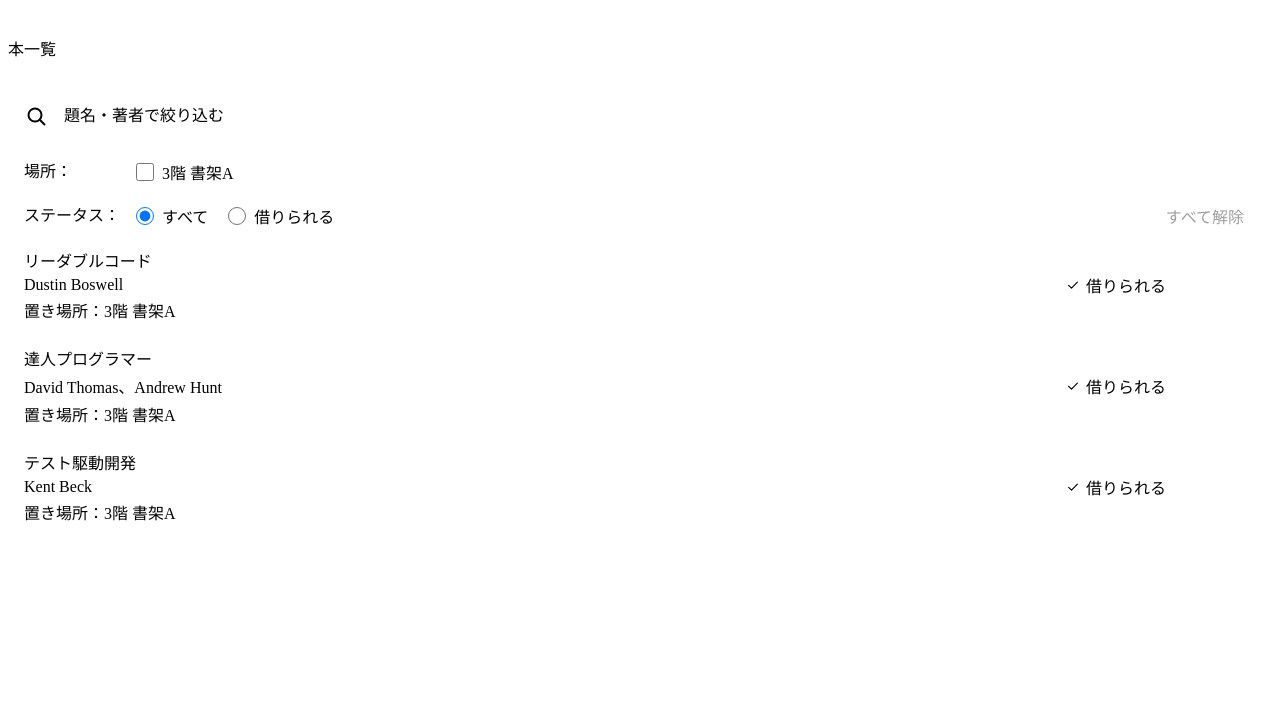
BookListPage の絞り込み › SB-18: どの本にも合わないときは、案内の文を表示し、一覧は表示しない
In the search field labelled "題名・著者で絞り込む": (660, 116) [64,107,1256,125], type "存在しない本"
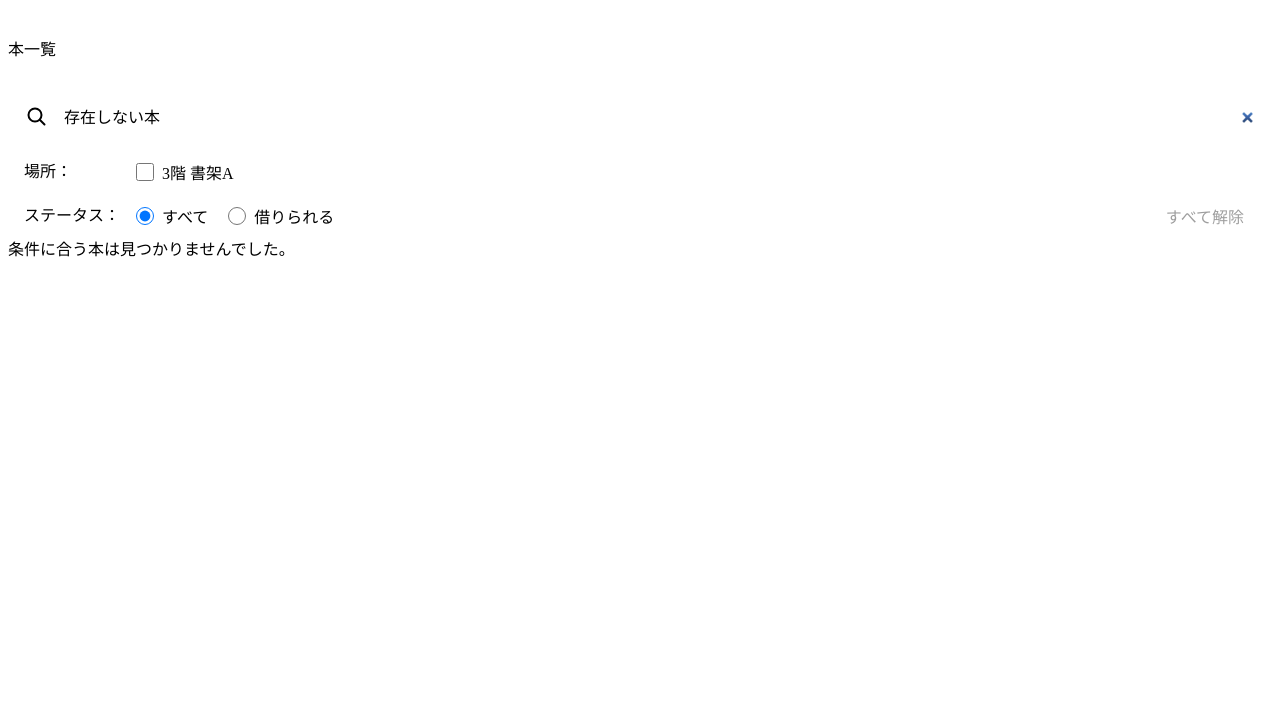
Expected: the text "条件に合う本は見つかりませんでした。" is shown, [8,241,295,258]
Expected: the list is gone
